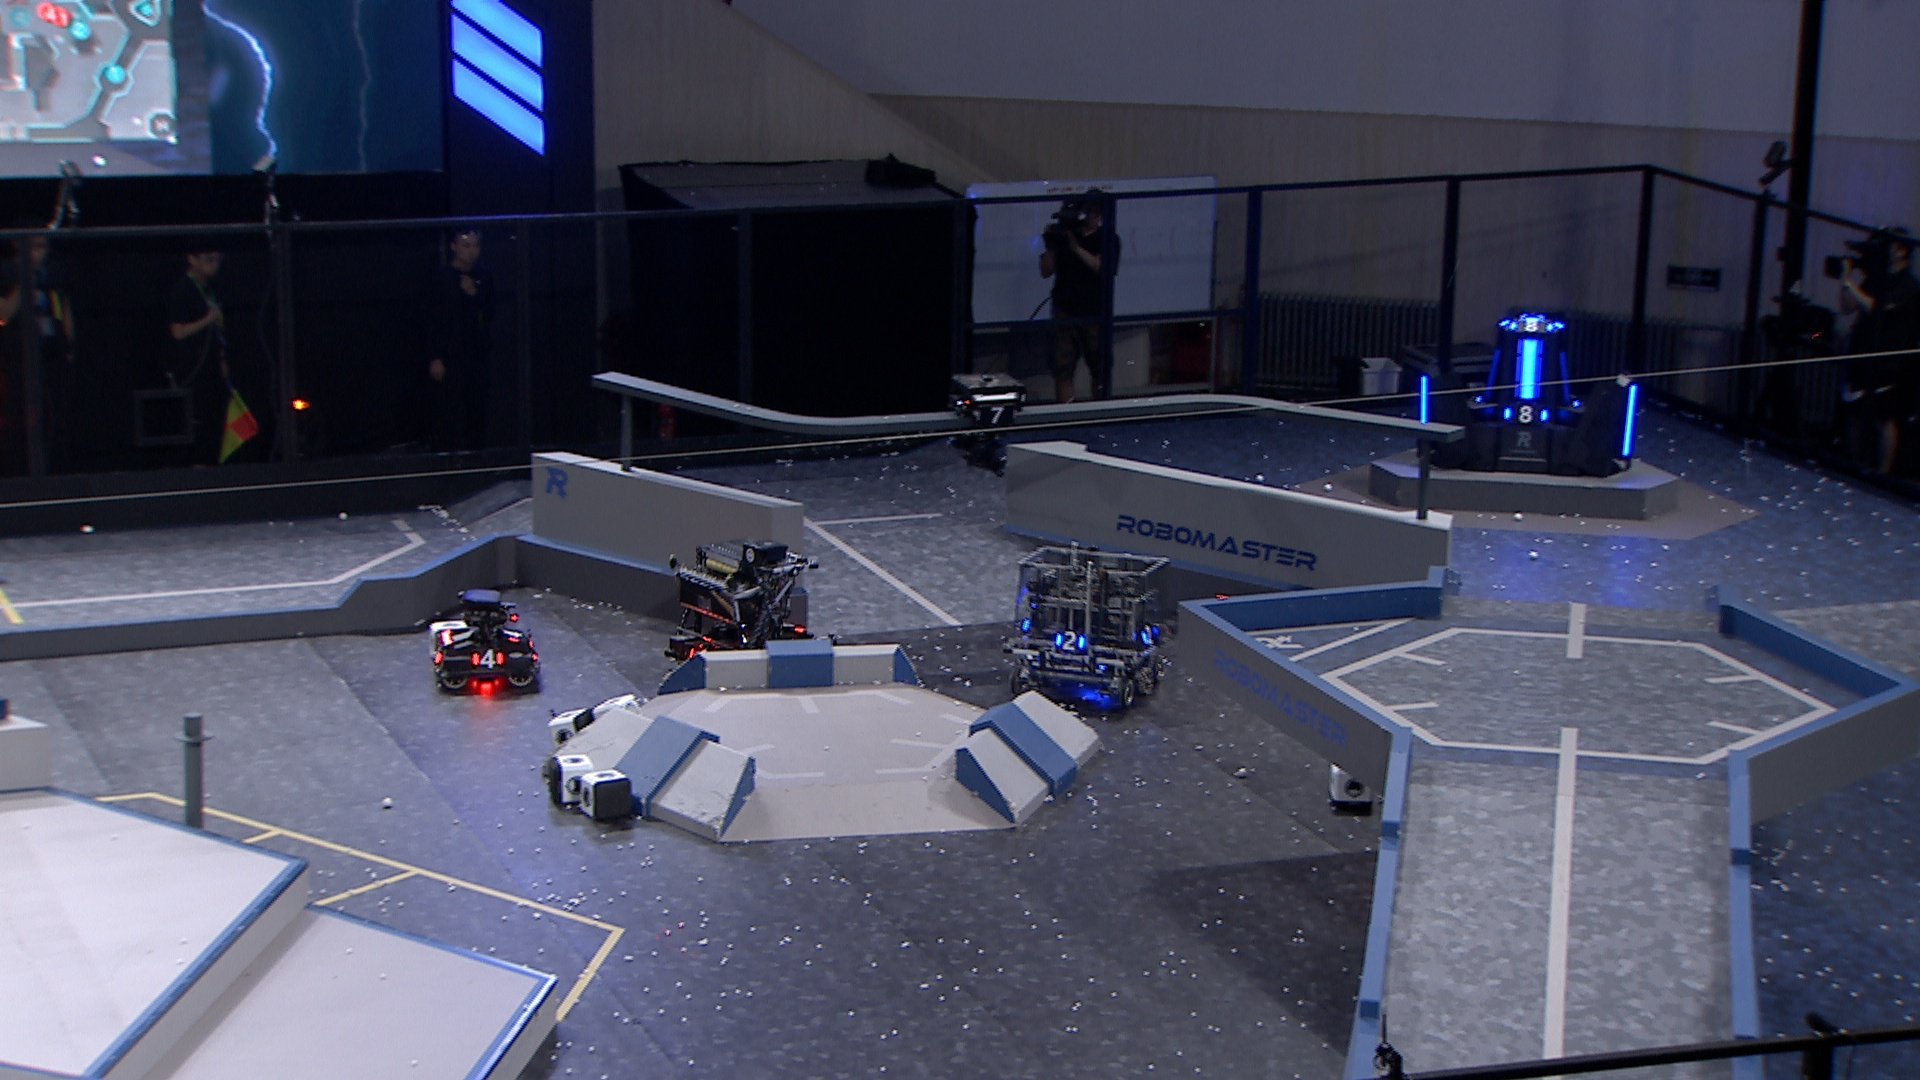armor: (1514, 339, 1539, 400), (1481, 349, 1503, 405), (1622, 384, 1638, 460), (973, 405, 1019, 429), (1051, 629, 1091, 654), (1501, 405, 1549, 425), (1557, 351, 1575, 404), (469, 647, 506, 670), (1509, 316, 1555, 334), (1418, 375, 1432, 425), (1138, 622, 1163, 650), (500, 626, 526, 645)
base: (1411, 313, 1640, 480)
car: (1004, 542, 1176, 709), (661, 533, 820, 684), (429, 589, 542, 692)
watcher: (949, 371, 1026, 476)
